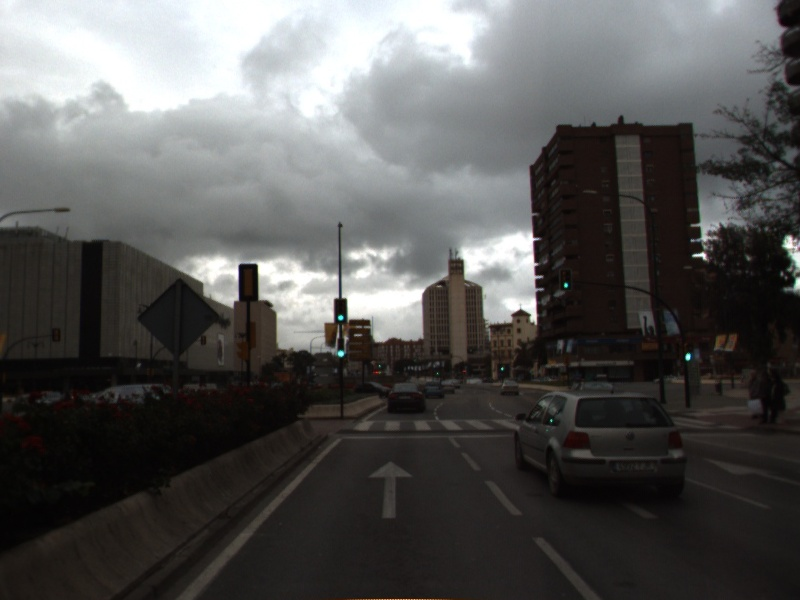STRAIGHT: (364, 458, 416, 521), (700, 455, 800, 487)
